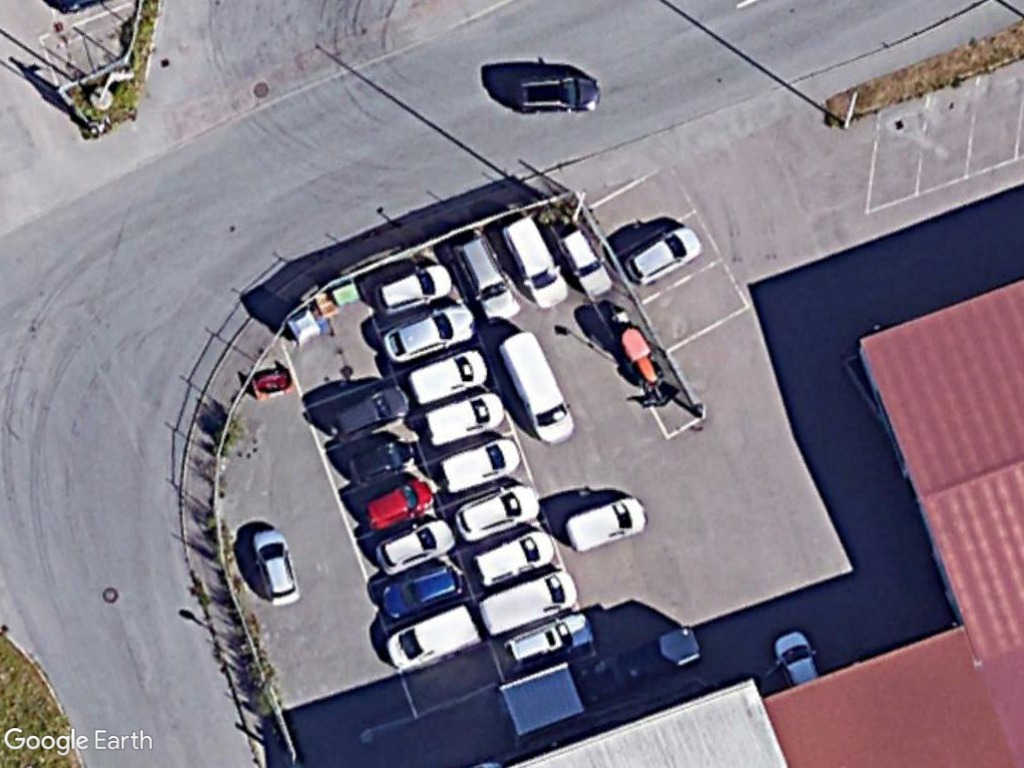car: (502, 213, 571, 314), (450, 233, 523, 327), (384, 296, 479, 367), (503, 605, 597, 673), (379, 558, 469, 623), (455, 479, 546, 543), (324, 379, 412, 445), (619, 222, 704, 287), (440, 430, 524, 495), (469, 525, 558, 585), (374, 514, 457, 576), (407, 346, 491, 407), (358, 471, 439, 533), (422, 389, 507, 446), (553, 222, 614, 300), (371, 258, 455, 314), (345, 429, 422, 489), (249, 527, 303, 609), (513, 71, 604, 119)
van: (499, 326, 577, 449), (384, 601, 483, 675), (480, 565, 580, 637), (562, 494, 655, 558)
